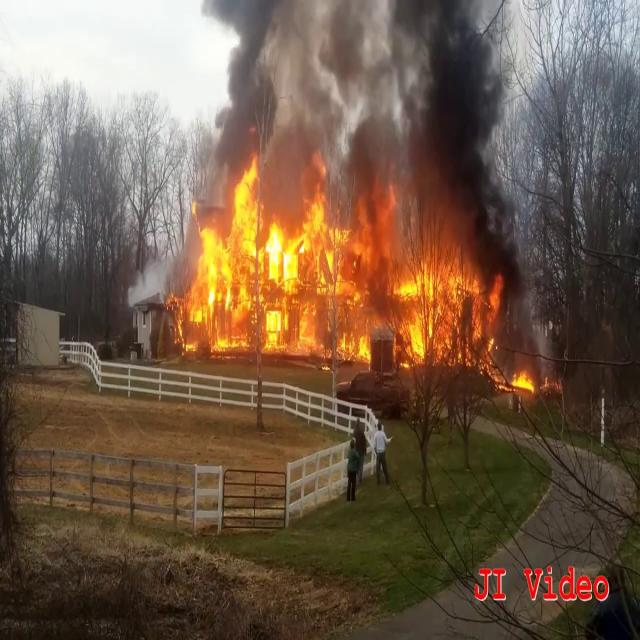Fire: (172, 160, 506, 368), (505, 364, 543, 396)
Smoke: (182, 0, 535, 232)
